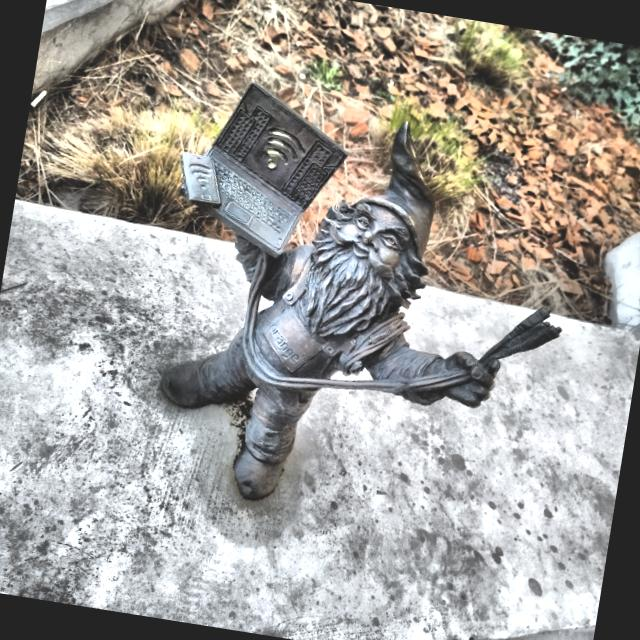Krasnal_Teleclaw: (160, 84, 560, 499)
